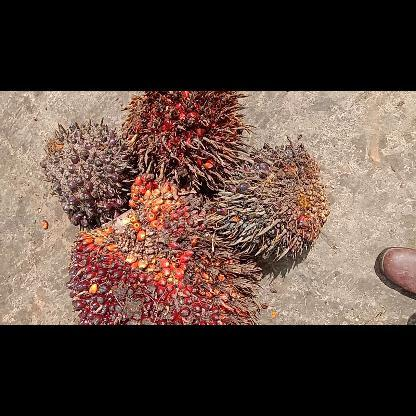Kurang masak: (39, 122, 129, 226)
TBS abnormal: (212, 138, 330, 264)
TBS masak: (66, 174, 262, 324)
Terlalu masak: (121, 92, 247, 194)
